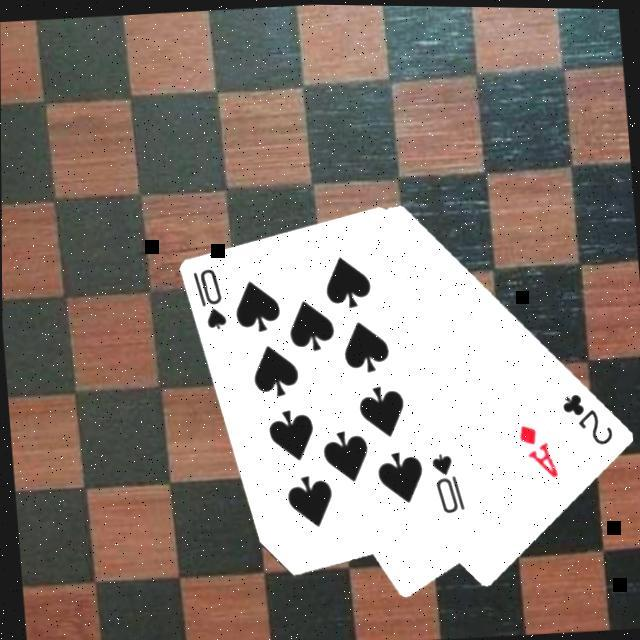10S: (190, 264, 232, 336), (430, 448, 470, 518)
2C: (559, 386, 619, 452)
AD: (516, 418, 563, 483)
